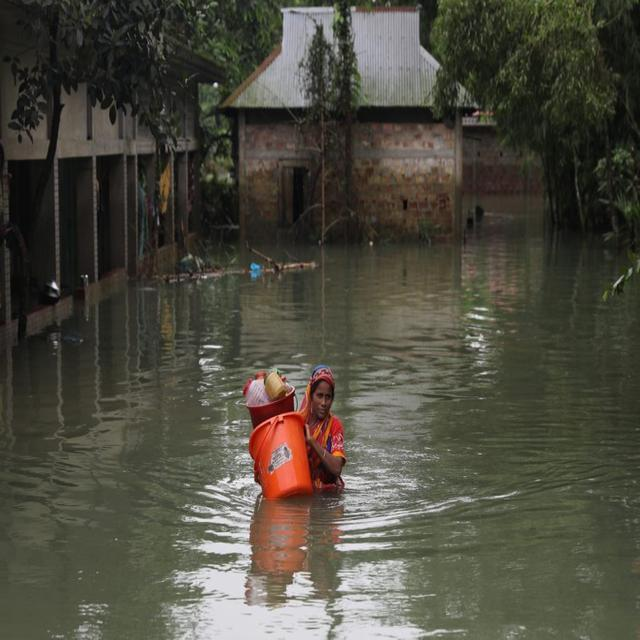Person-RiskLevel3: (229, 355, 366, 506)
